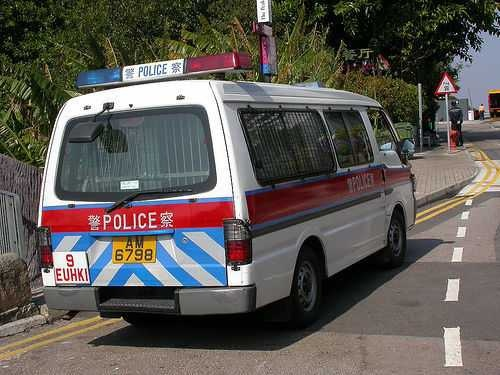Police Van: (16, 68, 433, 322)
